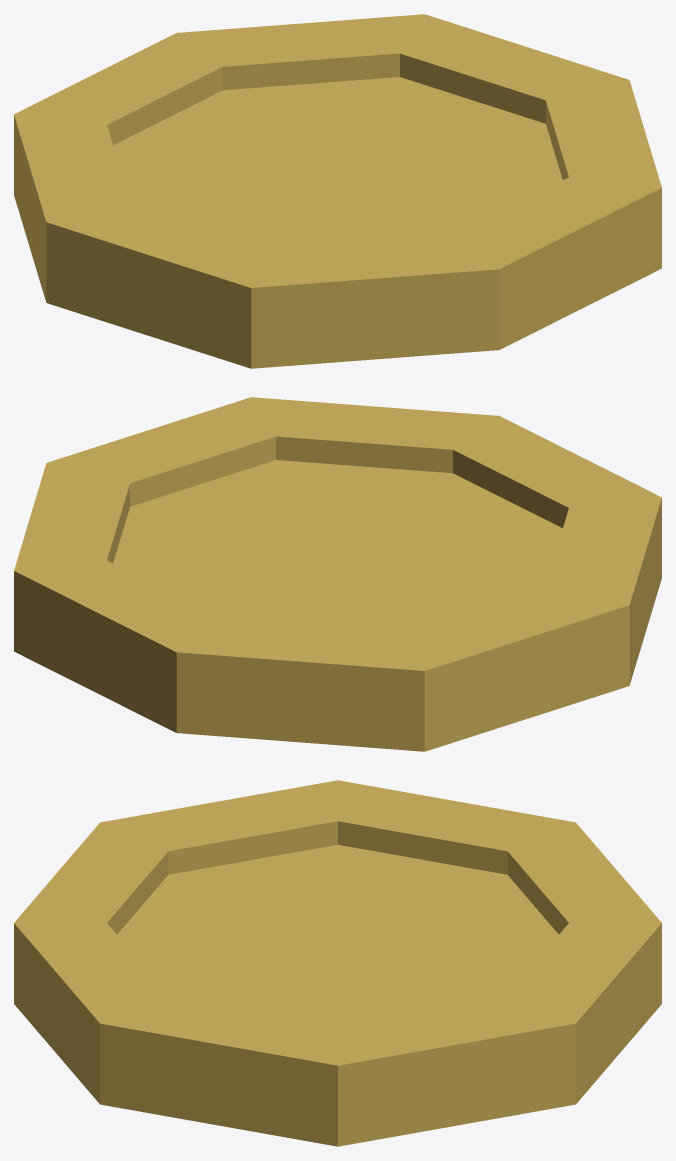
The model's file is CHAHIN_COIN.gltf.
3 renders of one model, top to bottom at view 1: azimuth 30°, elevation 25°; view 2: azimuth 150°, elevation 25°; view 3: azimuth 270°, elevation 25°, orthographic.
Visible parts, largest first — view 1: node-0; view 2: node-0; view 3: node-0.
Boxes of the visible parts, box(x1,y1,x2,y2) form: node-0: box(14, 14, 661, 368); node-0: box(14, 397, 661, 751); node-0: box(14, 780, 661, 1146).
Bounding box in the file's own units: 0.2789 × 0.0369 × 0.2676.
Materials: 1 (1 with a texture image).
